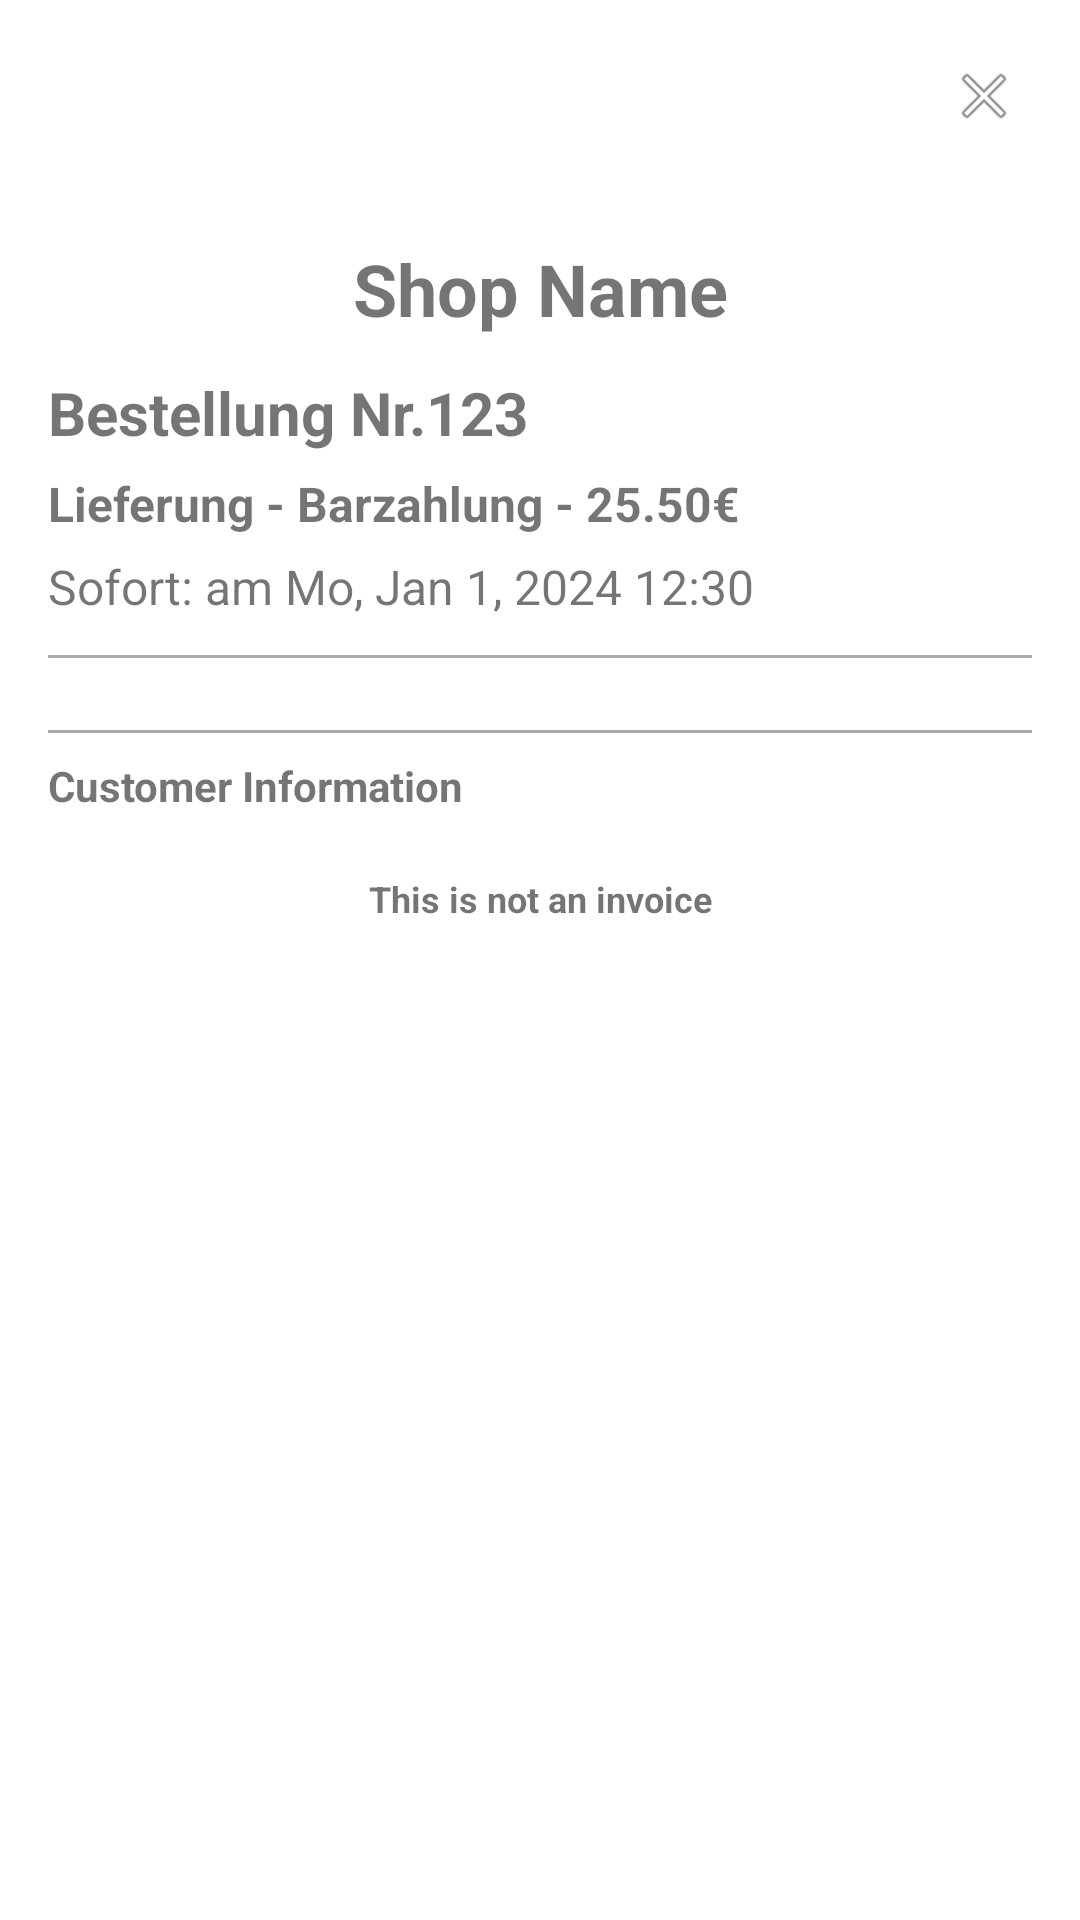

Where icons sit on this 1080 x 1920 app screen, as [x1, y1, x2, y2]:
Close: [961, 73, 1007, 119]
